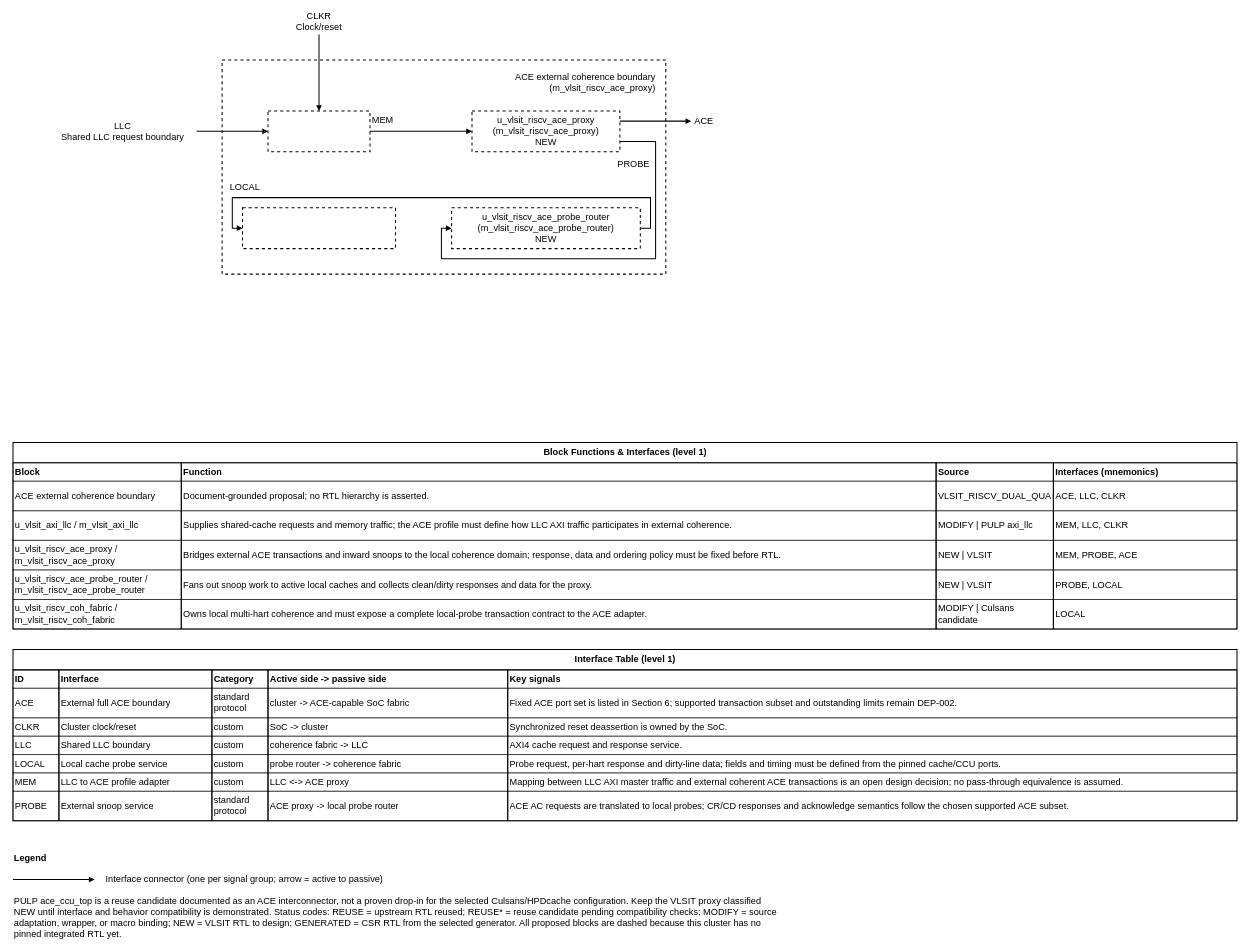
Some shapes in this 1246 by 949 pixel diagram are drawn without their labels. Each missing label, with the centre of its shape:
"u_vlsit_axi_llc (m_vlsit_axi_llc) MODIFY" goes at pixel 318 131.
"u_vlsit_riscv_coh_fabric (m_vlsit_riscv_coh_fabric) MODIFY" goes at pixel 319 228.
